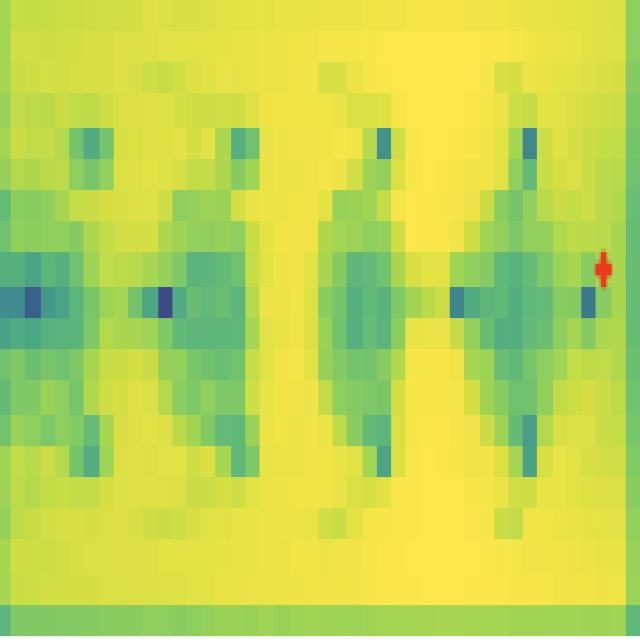Concrete: (452, 146, 597, 478)
Glass: (298, 153, 415, 482)
Metal: (2, 155, 124, 452)
Wood: (147, 118, 268, 471)
